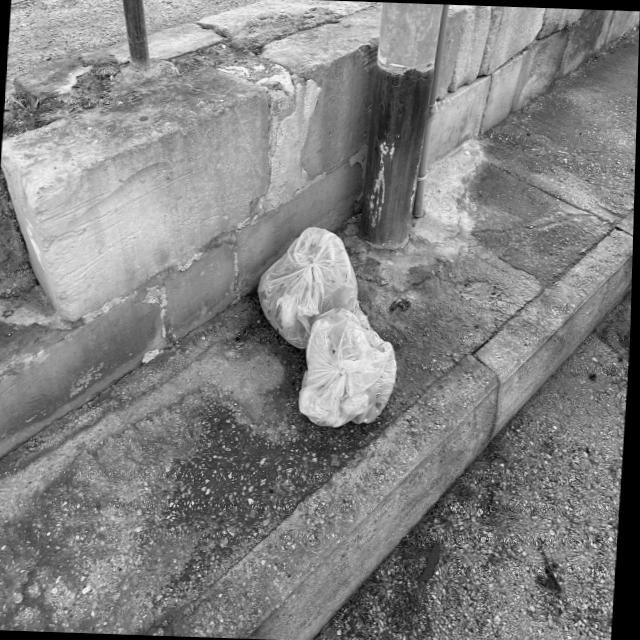Organic Waste -White Bags-: (258, 226, 399, 427)
